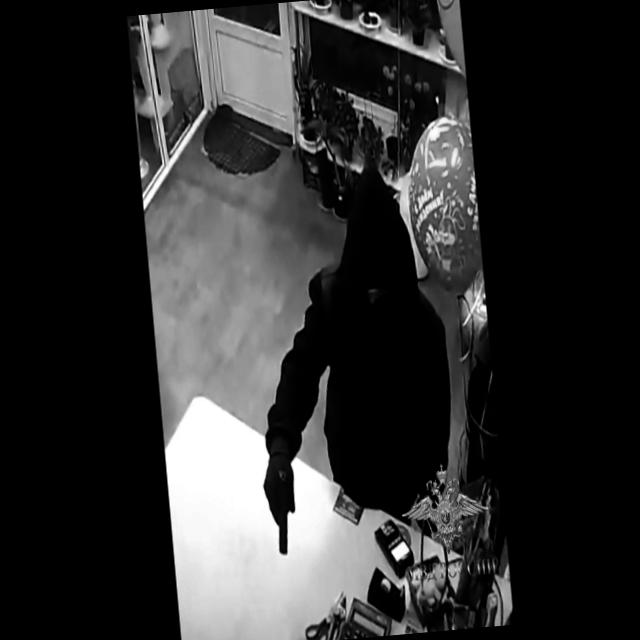gun: (258, 446, 304, 570)
person with a gun: (244, 189, 462, 556)
